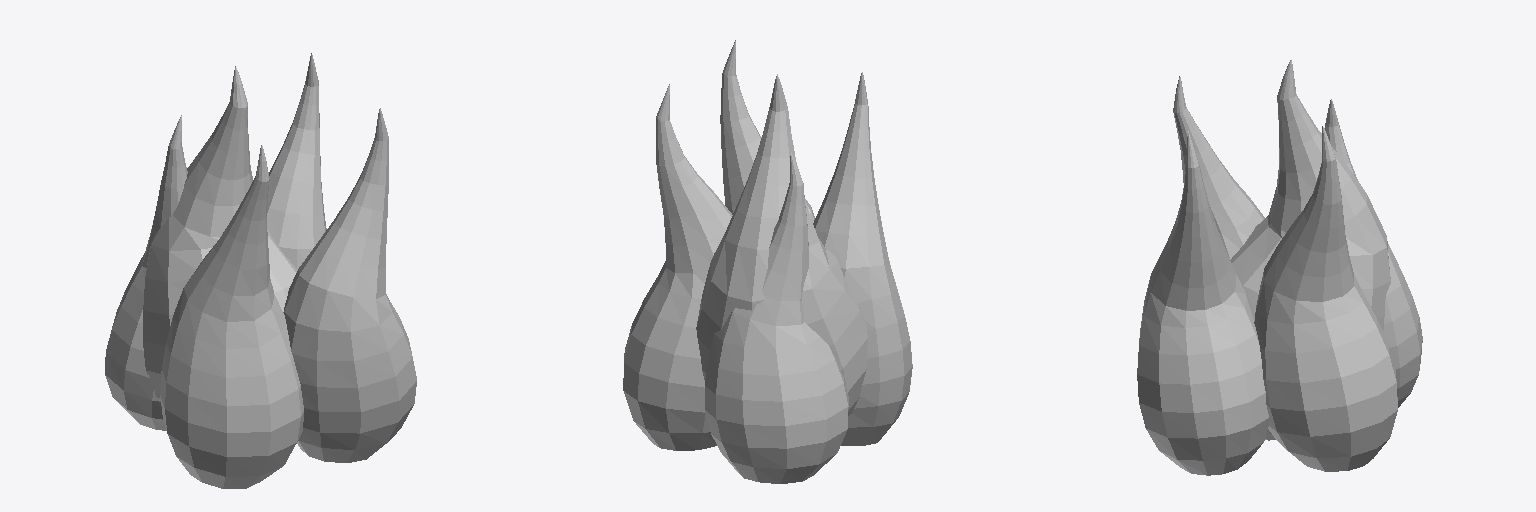
Rendered from fire_000024.obj.
The picture shows the model from 3 angles: view 1: azimuth 30°, elevation 25°; view 2: azimuth 150°, elevation 25°; view 3: azimuth 270°, elevation 25°; orthographic projection.
Visible parts, largest first — view 1: flame_NurbsPath.015; view 2: flame_NurbsPath.015; view 3: flame_NurbsPath.015.
Boxes of the visible parts, box(x1,y1,x2,y2) form: flame_NurbsPath.015: box(105, 53, 416, 488); flame_NurbsPath.015: box(623, 40, 912, 483); flame_NurbsPath.015: box(1137, 60, 1422, 475).
Bounding box in the file's own units: 0.7481 × 1.19 × 0.813.